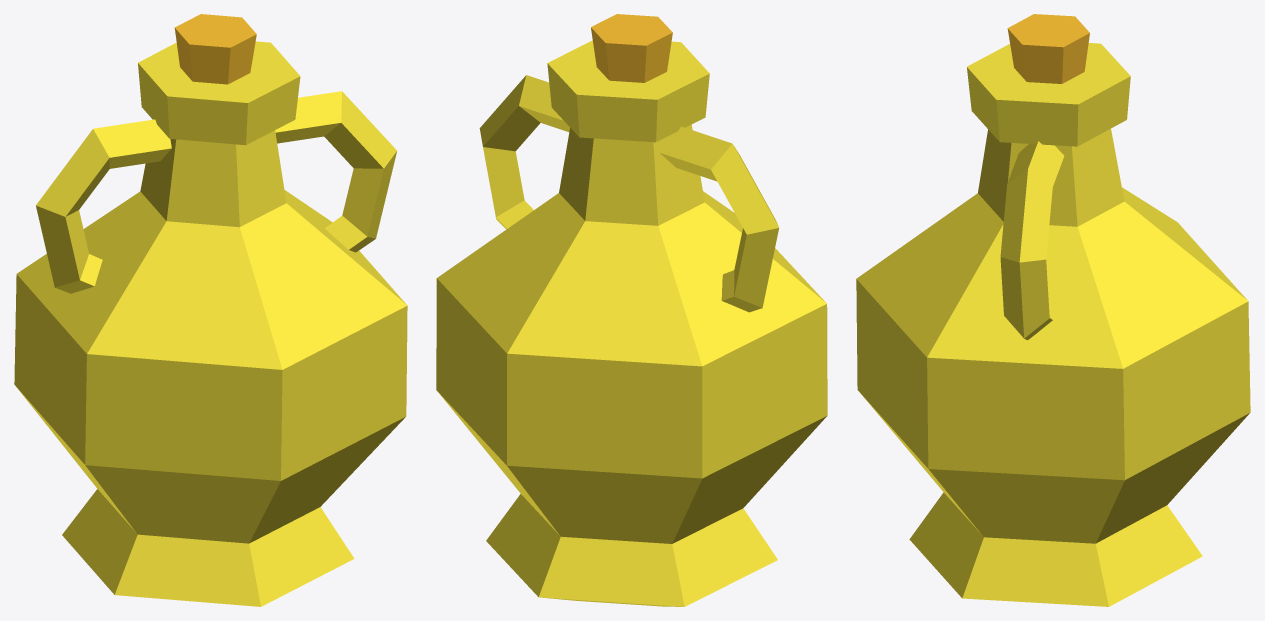
File: Ship_031.glb
3 views of the same model, side by side, from view 1: azimuth 30°, elevation 25°; view 2: azimuth 150°, elevation 25°; view 3: azimuth 270°, elevation 25° (orthographic).
Visible parts, largest first — view 1: Ship_031; view 2: Ship_031; view 3: Ship_031.
Boxes of the visible parts, x1,y1,x2,y2 form: Ship_031: (14,14,407,606); Ship_031: (436,14,827,606); Ship_031: (856,14,1250,606).
Bounding box in the file's own units: 0.2381 × 0.373 × 0.2451.
1 material, 1 textured.
